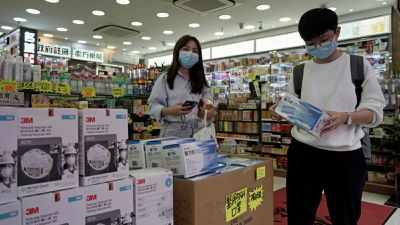with-mask: (294, 7, 346, 63), (168, 30, 204, 74)
